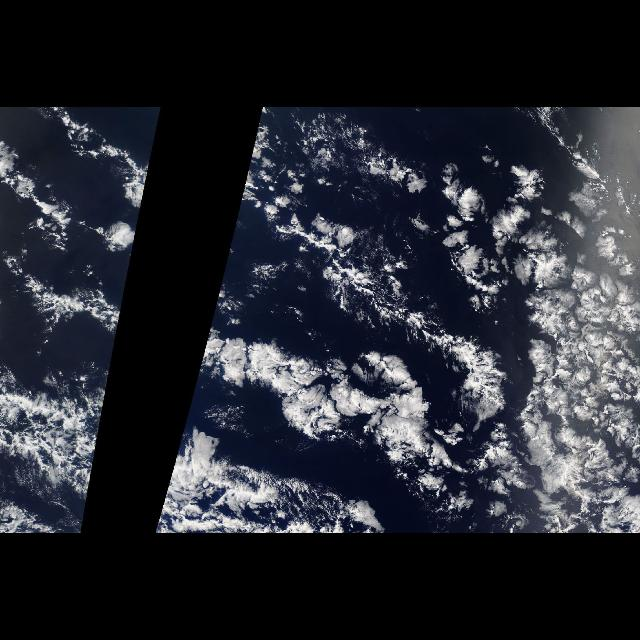Fish: (203, 328, 474, 492)
